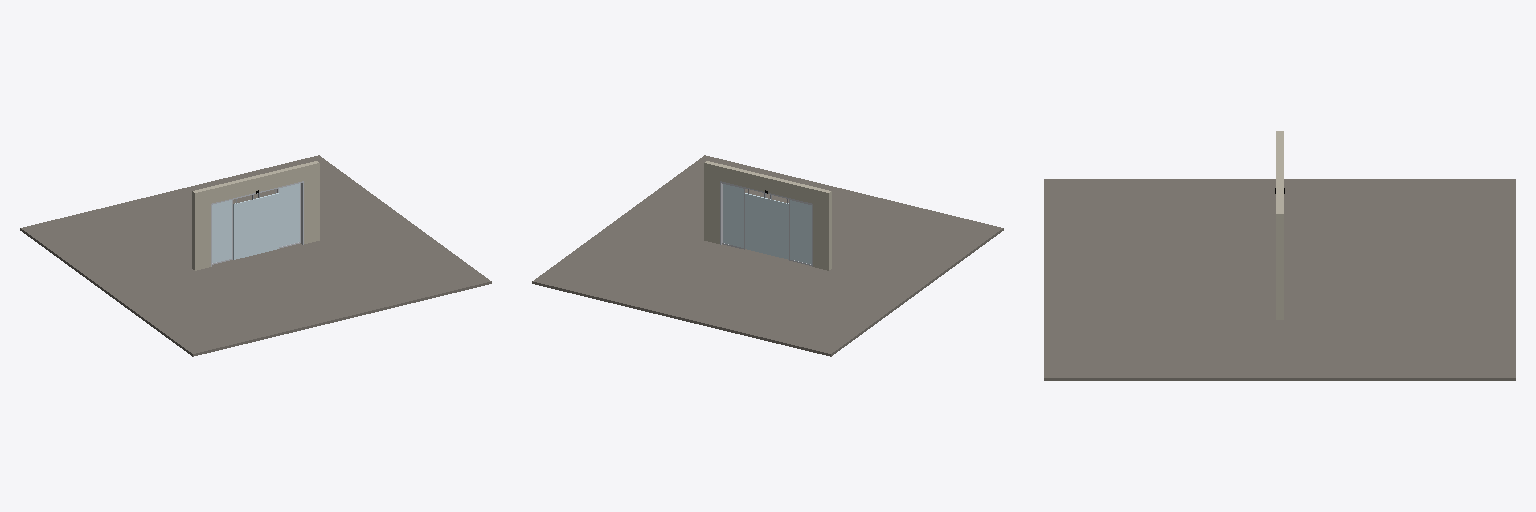
The robot description file, URDF, robot "db0203_automatic_sliding_simple":
<?xml version="1.0" ?>
<robot xmlns:doorbench="https://github.com/adamraudonis/DoorBench/schema/urdf-ext" name="db0203_automatic_sliding_simple">
  <link name="world_env">
    <visual name="floor_vis">
      <origin xyz="0 0 -0.05" rpy="0 0 0"/>
      <geometry>
        <box size="12 12 0.1"/>
      </geometry>
      <material name="mat_floor"/>
    </visual>
    <collision name="floor_col">
      <origin xyz="0 0 -0.05" rpy="0 0 0"/>
      <geometry>
        <box size="12 12 0.1"/>
      </geometry>
    </collision>
    <visual name="wall_left_vis">
      <origin xyz="-2.1825 0 1.492" rpy="0 0 0"/>
      <geometry>
        <box size="0.635 0.2 2.984"/>
      </geometry>
      <material name="mat_wall"/>
    </visual>
    <collision name="wall_left_col">
      <origin xyz="-2.1825 0 1.492" rpy="0 0 0"/>
      <geometry>
        <box size="0.635 0.2 2.984"/>
      </geometry>
    </collision>
    <visual name="wall_right_vis">
      <origin xyz="2.1825 0 1.492" rpy="0 0 0"/>
      <geometry>
        <box size="0.635 0.2 2.984"/>
      </geometry>
      <material name="mat_wall"/>
    </visual>
    <collision name="wall_right_col">
      <origin xyz="2.1825 0 1.492" rpy="0 0 0"/>
      <geometry>
        <box size="0.635 0.2 2.984"/>
      </geometry>
    </collision>
    <visual name="wall_header_vis">
      <origin xyz="0 0 2.7065" rpy="0 0 0"/>
      <geometry>
        <box size="3.73 0.2 0.555"/>
      </geometry>
      <material name="mat_wall"/>
    </visual>
    <collision name="wall_header_col">
      <origin xyz="0 0 2.7065" rpy="0 0 0"/>
      <geometry>
        <box size="3.73 0.2 0.555"/>
      </geometry>
    </collision>
    <visual name="jamb_l_vis">
      <origin xyz="-1.8425 0 1.192" rpy="0 0 0"/>
      <geometry>
        <box size="0.045 0.2 2.384"/>
      </geometry>
      <material name="mat_frame"/>
    </visual>
    <collision name="jamb_l_col">
      <origin xyz="-1.8425 0 1.192" rpy="0 0 0"/>
      <geometry>
        <box size="0.045 0.2 2.384"/>
      </geometry>
    </collision>
    <visual name="jamb_r_vis">
      <origin xyz="1.8425 0 1.192" rpy="0 0 0"/>
      <geometry>
        <box size="0.045 0.2 2.384"/>
      </geometry>
      <material name="mat_frame"/>
    </visual>
    <collision name="jamb_r_col">
      <origin xyz="1.8425 0 1.192" rpy="0 0 0"/>
      <geometry>
        <box size="0.045 0.2 2.384"/>
      </geometry>
    </collision>
    <visual name="jamb_head_vis">
      <origin xyz="0 0 2.4065" rpy="0 0 0"/>
      <geometry>
        <box size="3.73 0.2 0.045"/>
      </geometry>
      <material name="mat_frame"/>
    </visual>
    <collision name="jamb_head_col">
      <origin xyz="0 0 2.4065" rpy="0 0 0"/>
      <geometry>
        <box size="3.73 0.2 0.045"/>
      </geometry>
    </collision>
    <visual name="sidelite_l_vis">
      <origin xyz="-1.365 0.042 1.192" rpy="0 0 0"/>
      <geometry>
        <box size="0.87 0.006 2.284"/>
      </geometry>
      <material name="mat_fixed_glass"/>
    </visual>
    <collision name="sidelite_l_col">
      <origin xyz="-1.365 0.042 1.192" rpy="0 0 0"/>
      <geometry>
        <box size="0.87 0.006 2.284"/>
      </geometry>
    </collision>
    <visual name="sidelite_l_stile_n_vis">
      <origin xyz="-1.82 0.042 1.192" rpy="0 0 0"/>
      <geometry>
        <box size="0.04 0.024 2.384"/>
      </geometry>
      <material name="mat_frame"/>
    </visual>
    <collision name="sidelite_l_stile_n_col">
      <origin xyz="-1.82 0.042 1.192" rpy="0 0 0"/>
      <geometry>
        <box size="0.04 0.024 2.384"/>
      </geometry>
    </collision>
    <visual name="sidelite_l_stile_p_vis">
      <origin xyz="-0.91 0.042 1.192" rpy="0 0 0"/>
      <geometry>
        <box size="0.04 0.024 2.384"/>
      </geometry>
      <material name="mat_frame"/>
    </visual>
    <collision name="sidelite_l_stile_p_col">
      <origin xyz="-0.91 0.042 1.192" rpy="0 0 0"/>
      <geometry>
        <box size="0.04 0.024 2.384"/>
      </geometry>
    </collision>
    <visual name="sidelite_l_sill_vis">
      <origin xyz="-1.365 0.042 0.025" rpy="0 0 0"/>
      <geometry>
        <box size="0.95 0.024 0.05"/>
      </geometry>
      <material name="mat_frame"/>
    </visual>
    <collision name="sidelite_l_sill_col">
      <origin xyz="-1.365 0.042 0.025" rpy="0 0 0"/>
      <geometry>
        <box size="0.95 0.024 0.05"/>
      </geometry>
    </collision>
    <visual name="sidelite_l_head_vis">
      <origin xyz="-1.365 0.042 2.359" rpy="0 0 0"/>
      <geometry>
        <box size="0.95 0.024 0.05"/>
      </geometry>
      <material name="mat_frame"/>
    </visual>
    <collision name="sidelite_l_head_col">
      <origin xyz="-1.365 0.042 2.359" rpy="0 0 0"/>
      <geometry>
        <box size="0.95 0.024 0.05"/>
      </geometry>
    </collision>
    <visual name="sidelite_r_vis">
      <origin xyz="1.365 0.042 1.192" rpy="0 0 0"/>
      <geometry>
        <box size="0.87 0.006 2.284"/>
      </geometry>
      <material name="mat_fixed_glass"/>
    </visual>
    <collision name="sidelite_r_col">
      <origin xyz="1.365 0.042 1.192" rpy="0 0 0"/>
      <geometry>
        <box size="0.87 0.006 2.284"/>
      </geometry>
    </collision>
    <visual name="sidelite_r_stile_n_vis">
      <origin xyz="0.91 0.042 1.192" rpy="0 0 0"/>
      <geometry>
        <box size="0.04 0.024 2.384"/>
      </geometry>
      <material name="mat_frame"/>
    </visual>
    <collision name="sidelite_r_stile_n_col">
      <origin xyz="0.91 0.042 1.192" rpy="0 0 0"/>
      <geometry>
        <box size="0.04 0.024 2.384"/>
      </geometry>
    </collision>
    <visual name="sidelite_r_stile_p_vis">
      <origin xyz="1.82 0.042 1.192" rpy="0 0 0"/>
      <geometry>
        <box size="0.04 0.024 2.384"/>
      </geometry>
      <material name="mat_frame"/>
    </visual>
    <collision name="sidelite_r_stile_p_col">
      <origin xyz="1.82 0.042 1.192" rpy="0 0 0"/>
      <geometry>
        <box size="0.04 0.024 2.384"/>
      </geometry>
    </collision>
    <visual name="sidelite_r_sill_vis">
      <origin xyz="1.365 0.042 0.025" rpy="0 0 0"/>
      <geometry>
        <box size="0.95 0.024 0.05"/>
      </geometry>
      <material name="mat_frame"/>
    </visual>
    <collision name="sidelite_r_sill_col">
      <origin xyz="1.365 0.042 0.025" rpy="0 0 0"/>
      <geometry>
        <box size="0.95 0.024 0.05"/>
      </geometry>
    </collision>
    <visual name="sidelite_r_head_vis">
      <origin xyz="1.365 0.042 2.359" rpy="0 0 0"/>
      <geometry>
        <box size="0.95 0.024 0.05"/>
      </geometry>
      <material name="mat_frame"/>
    </visual>
    <collision name="sidelite_r_head_col">
      <origin xyz="1.365 0.042 2.359" rpy="0 0 0"/>
      <geometry>
        <box size="0.95 0.024 0.05"/>
      </geometry>
    </collision>
    <visual name="leaf_a_track_header_vis">
      <origin xyz="-0.89 0 2.519" rpy="0 0 0"/>
      <geometry>
        <box size="1.88 0.18 0.18"/>
      </geometry>
      <material name="mat_track"/>
    </visual>
    <collision name="leaf_a_track_header_col">
      <origin xyz="-0.89 0 2.519" rpy="0 0 0"/>
      <geometry>
        <box size="1.88 0.18 0.18"/>
      </geometry>
    </collision>
    <visual name="leaf_b_track_header_vis">
      <origin xyz="0.89 0 2.519" rpy="0 0 0"/>
      <geometry>
        <box size="1.88 0.18 0.18"/>
      </geometry>
      <material name="mat_track"/>
    </visual>
    <collision name="leaf_b_track_header_col">
      <origin xyz="0.89 0 2.519" rpy="0 0 0"/>
      <geometry>
        <box size="1.88 0.18 0.18"/>
      </geometry>
    </collision>
    <visual name="wave_sensor_n_vis">
      <origin xyz="0 -0.112 2.454" rpy="0 0 0"/>
      <geometry>
        <box size="0.1 0.024 0.1"/>
      </geometry>
      <material name="mat_wallreader"/>
    </visual>
    <collision name="wave_sensor_n_col">
      <origin xyz="0 -0.112 2.454" rpy="0 0 0"/>
      <geometry>
        <box size="0.1 0.024 0.1"/>
      </geometry>
    </collision>
    <visual name="wave_sensor_n_pad_vis">
      <origin xyz="0 -0.095 2.454" rpy="0 0 0"/>
      <geometry>
        <box size="0.08 0.011 0.08"/>
      </geometry>
      <material name="mat_wallreader"/>
    </visual>
    <visual name="wave_sensor_p_vis">
      <origin xyz="0 0.112 2.454" rpy="0 0 0"/>
      <geometry>
        <box size="0.1 0.024 0.1"/>
      </geometry>
      <material name="mat_wallreader"/>
    </visual>
    <collision name="wave_sensor_p_col">
      <origin xyz="0 0.112 2.454" rpy="0 0 0"/>
      <geometry>
        <box size="0.1 0.024 0.1"/>
      </geometry>
    </collision>
    <visual name="wave_sensor_p_pad_vis">
      <origin xyz="0 0.095 2.454" rpy="0 0 0"/>
      <geometry>
        <box size="0.08 0.011 0.08"/>
      </geometry>
      <material name="mat_wallreader"/>
    </visual>
  </link>
  <link name="leaf_a">
    <inertial>
      <origin xyz="0 0 1.129479" rpy="0 0 0"/>
      <mass value="66.29671"/>
      <inertia ixx="27.819875861" ixy="0" ixz="0" iyy="32.403769566" iyz="0" izz="4.605346168"/>
    </inertial>
    <visual name="leaf_a_glass_vis">
      <origin xyz="0 0 1.079" rpy="0 0 0"/>
      <geometry>
        <box size="0.9 0.045 2.134"/>
      </geometry>
      <material name="mat_glass_leaf"/>
    </visual>
    <collision name="leaf_a_glass_col">
      <origin xyz="0 0 1.079" rpy="0 0 0"/>
      <geometry>
        <box size="0.9 0.045 2.134"/>
      </geometry>
    </collision>
    <visual name="leaf_a_carrier_0_vis">
      <origin xyz="-0.33 0 2.233" rpy="0 0 0"/>
      <geometry>
        <box size="0.04 0.01 0.294"/>
      </geometry>
      <material name="mat_roller"/>
    </visual>
    <visual name="leaf_a_carrier_wheel_0_vis">
      <origin xyz="-0.33 0 2.37" rpy="-1.570796 0 0"/>
      <geometry>
        <cylinder radius="0.014" length="0.012"/>
      </geometry>
      <material name="mat_roller"/>
    </visual>
    <visual name="leaf_a_carrier_1_vis">
      <origin xyz="0.33 0 2.233" rpy="0 0 0"/>
      <geometry>
        <box size="0.04 0.01 0.294"/>
      </geometry>
      <material name="mat_roller"/>
    </visual>
    <visual name="leaf_a_carrier_wheel_1_vis">
      <origin xyz="0.33 0 2.37" rpy="-1.570796 0 0"/>
      <geometry>
        <cylinder radius="0.014" length="0.012"/>
      </geometry>
      <material name="mat_roller"/>
    </visual>
  </link>
  <link name="leaf_b">
    <inertial>
      <origin xyz="0 0 1.129479" rpy="0 0 0"/>
      <mass value="66.27469"/>
      <inertia ixx="27.810635272" ixy="0" ixz="0" iyy="32.393006401" iyz="0" izz="4.603816466"/>
    </inertial>
    <visual name="leaf_b_glass_vis">
      <origin xyz="0 0 1.079" rpy="0 0 0"/>
      <geometry>
        <box size="0.9 0.045 2.134"/>
      </geometry>
      <material name="mat_glass_leaf"/>
    </visual>
    <collision name="leaf_b_glass_col">
      <origin xyz="0 0 1.079" rpy="0 0 0"/>
      <geometry>
        <box size="0.9 0.045 2.134"/>
      </geometry>
    </collision>
    <visual name="leaf_b_carrier_0_vis">
      <origin xyz="-0.33 0 2.233" rpy="0 0 0"/>
      <geometry>
        <box size="0.04 0.01 0.294"/>
      </geometry>
      <material name="mat_roller"/>
    </visual>
    <visual name="leaf_b_carrier_wheel_0_vis">
      <origin xyz="-0.33 0 2.37" rpy="-1.570796 0 0"/>
      <geometry>
        <cylinder radius="0.014" length="0.012"/>
      </geometry>
      <material name="mat_roller"/>
    </visual>
    <visual name="leaf_b_carrier_1_vis">
      <origin xyz="0.33 0 2.233" rpy="0 0 0"/>
      <geometry>
        <box size="0.04 0.01 0.294"/>
      </geometry>
      <material name="mat_roller"/>
    </visual>
    <visual name="leaf_b_carrier_wheel_1_vis">
      <origin xyz="0.33 0 2.37" rpy="-1.570796 0 0"/>
      <geometry>
        <cylinder radius="0.014" length="0.012"/>
      </geometry>
      <material name="mat_roller"/>
    </visual>
  </link>
  <joint name="leaf_a_slide" type="prismatic">
    <origin xyz="-0.45 0 0" rpy="0 0 0"/>
    <parent link="world_env"/>
    <child link="leaf_a"/>
    <axis xyz="-1 0 0"/>
    <limit lower="0" upper="0.88" effort="5000" velocity="10"/>
    <dynamics damping="5.315535" friction="7.80343"/>
  </joint>
  <joint name="leaf_b_slide" type="prismatic">
    <origin xyz="0.45 0 0" rpy="0 0 0"/>
    <parent link="world_env"/>
    <child link="leaf_b"/>
    <axis xyz="1 0 0"/>
    <limit lower="0" upper="0.88" effort="5000" velocity="10"/>
    <dynamics damping="5.315535" friction="7.80343"/>
    <mimic joint="leaf_a_slide" multiplier="1" offset="0"/>
  </joint>
  <material name="mat_fixed_glass">
    <color rgba="0.85 0.92 0.95 0.25"/>
  </material>
  <material name="mat_floor">
    <color rgba="0.55 0.53 0.5 1"/>
  </material>
  <material name="mat_frame">
    <color rgba="0.8 0.81 0.83 1"/>
  </material>
  <material name="mat_glass_leaf">
    <color rgba="0.85 0.92 0.95 0.25"/>
  </material>
  <material name="mat_roller">
    <color rgba="0.65 0.66 0.68 1"/>
  </material>
  <material name="mat_track">
    <color rgba="0.8 0.81 0.83 1"/>
  </material>
  <material name="mat_wall">
    <color rgba="0.78 0.76 0.7 1"/>
  </material>
  <material name="mat_wallreader">
    <color rgba="0.05 0.05 0.05 1"/>
  </material>
</robot>

--- Render facts (derived) ---
3 views of the same robot in one strip: view 1: azimuth 30°, elevation 25°; view 2: azimuth 150°, elevation 25°; view 3: azimuth 270°, elevation 25° (orthographic).
Model db0203_automatic_sliding_simple with 3 links and 2 joints (2 prismatic), rooted at world_env, posed all joints at 0.
Links seen in each view (by area): view 1: world_env, leaf_b, leaf_a; view 2: world_env, leaf_b, leaf_a; view 3: world_env.
Boxes of the visible links, x1,y1,x2,y2 form: world_env: [20, 155, 491, 356]; leaf_b: [256, 189, 278, 254]; leaf_a: [233, 195, 255, 259]; world_env: [532, 155, 1003, 356]; leaf_b: [745, 189, 767, 254]; leaf_a: [768, 195, 788, 259]; world_env: [1044, 131, 1515, 380].
Size in the robot's own frame: 12 by 12 by 3.08 metres.
Geometry: primitives only (box / cylinder / sphere), no mesh files.
